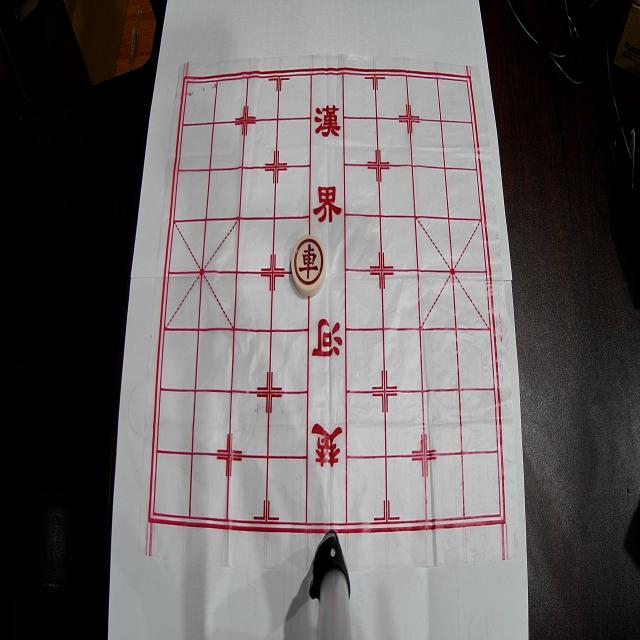red-chariot: (291, 235, 326, 297)
